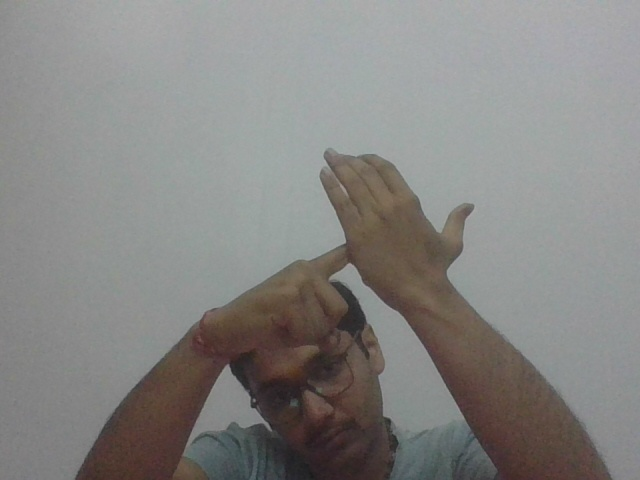R: (233, 149, 489, 354)
